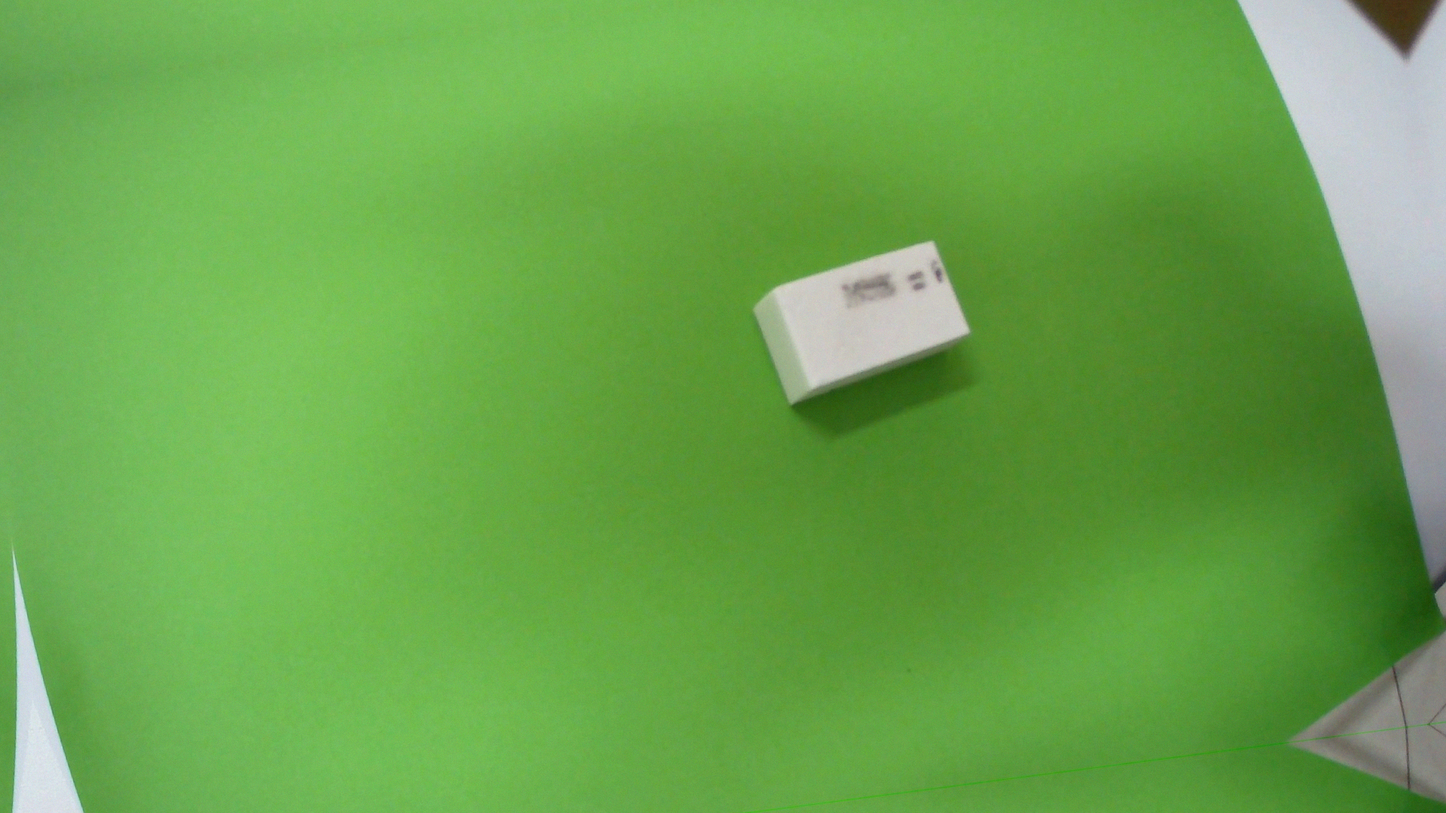gom: (748, 230, 975, 415)
